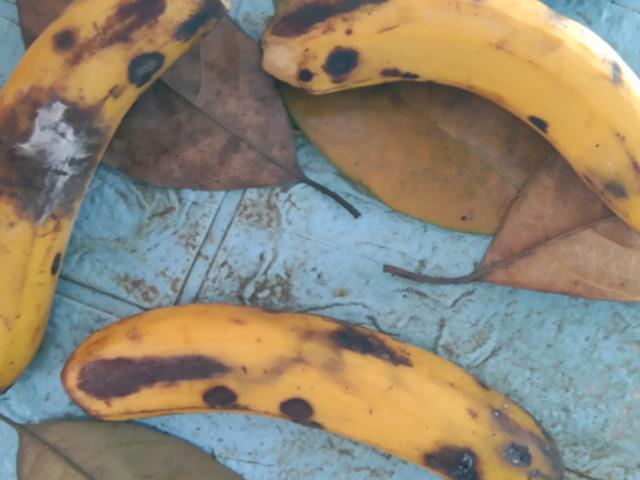overripe: (69, 291, 609, 479), (0, 2, 236, 397)
ripe: (260, 0, 639, 243)
rotten: (0, 66, 172, 240)
